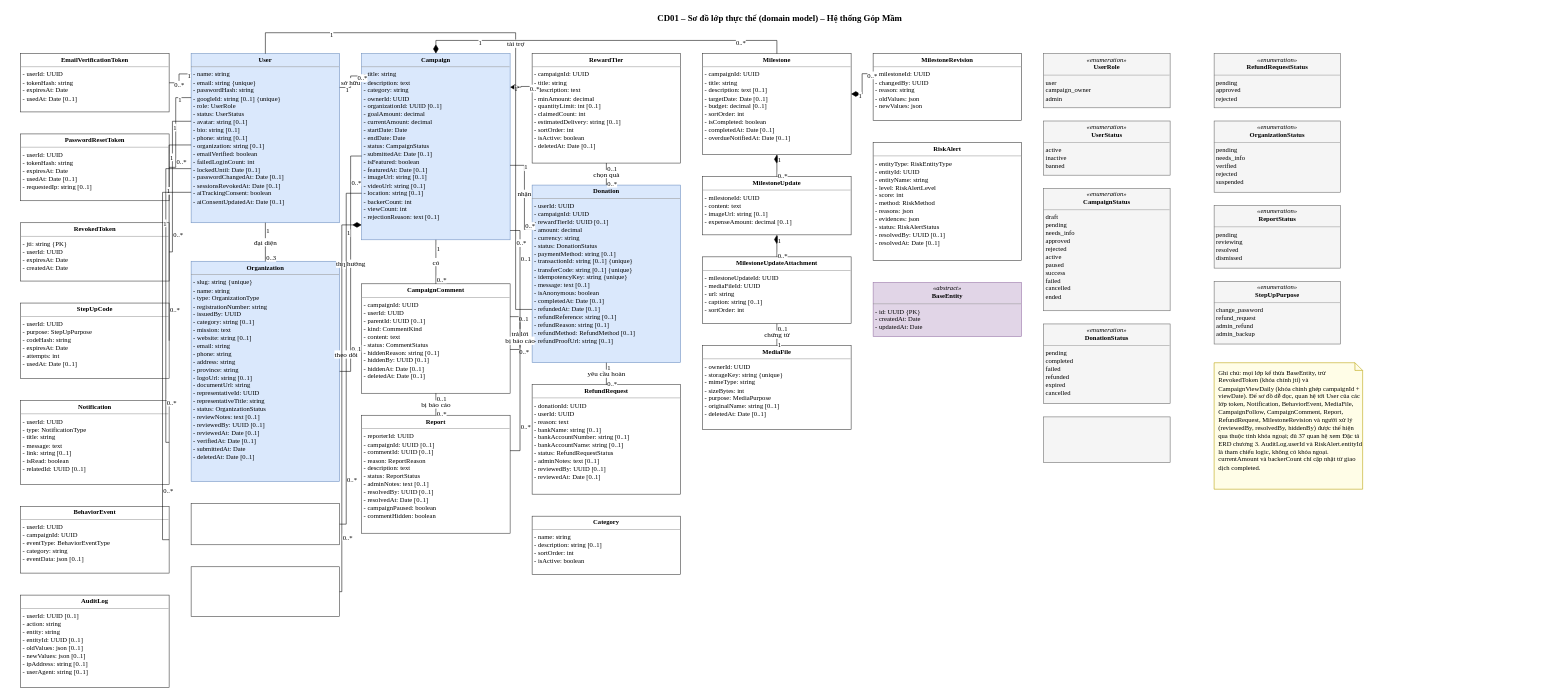
Some shapes in this 1559 by 697 pixel diagram are drawn without their labels. The centre of each missing label's shape, as x and y in pixels:
CampaignFollow - userId: UUID - campaignId: UUID: point 265,524
CampaignViewDaily - campaignId: UUID {PK} - viewDate: string {PK} - views: int: point 265,591
«enumeration» RefundMethod gateway manual_transfer: point 1106,439
